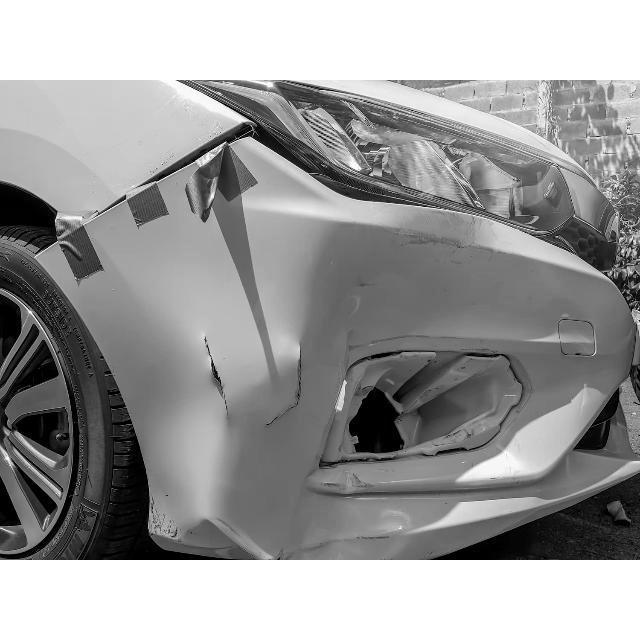front-bumper-dent: (154, 303, 637, 534)
